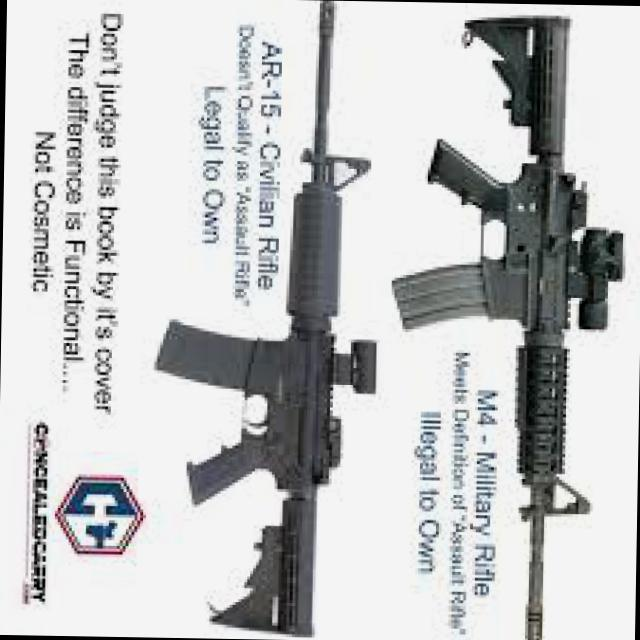long weapon: (159, 0, 373, 634), (415, 5, 616, 636)
